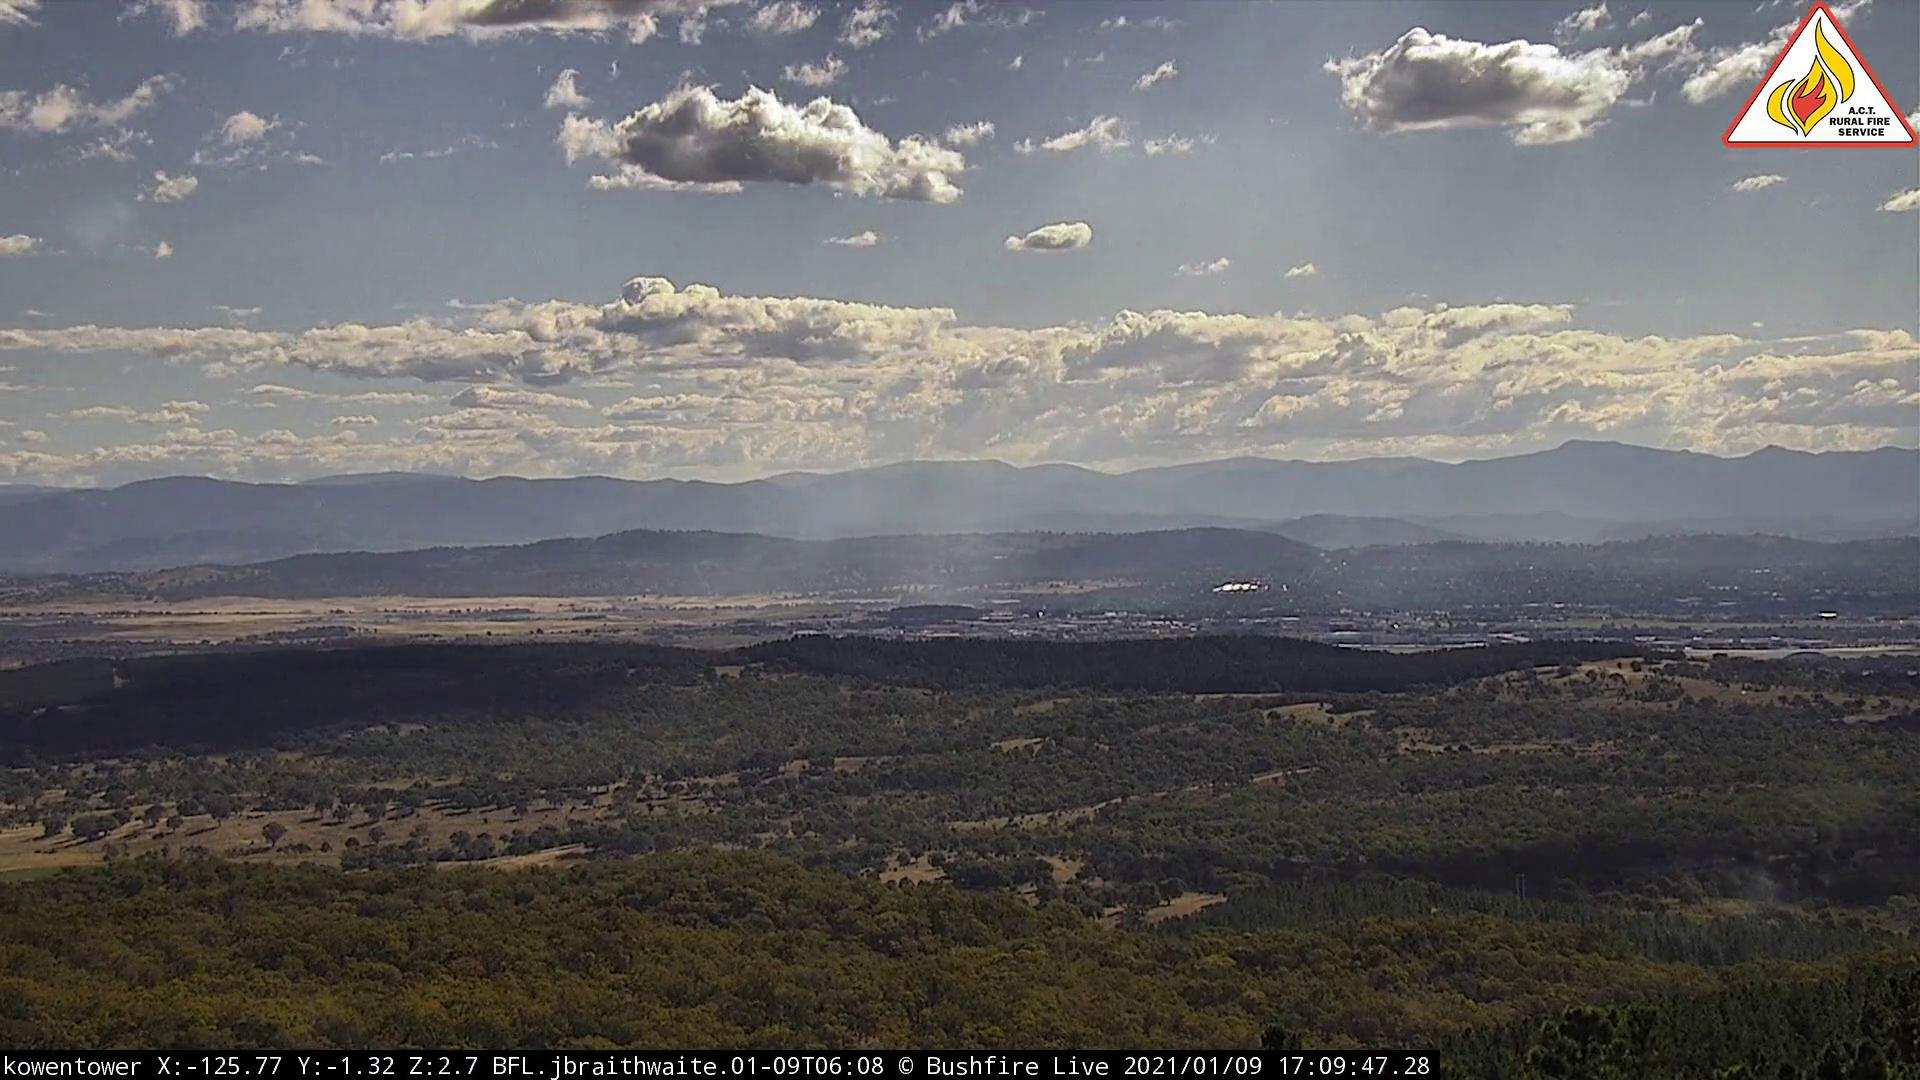instance_salient_object: (735, 513, 1007, 611)
